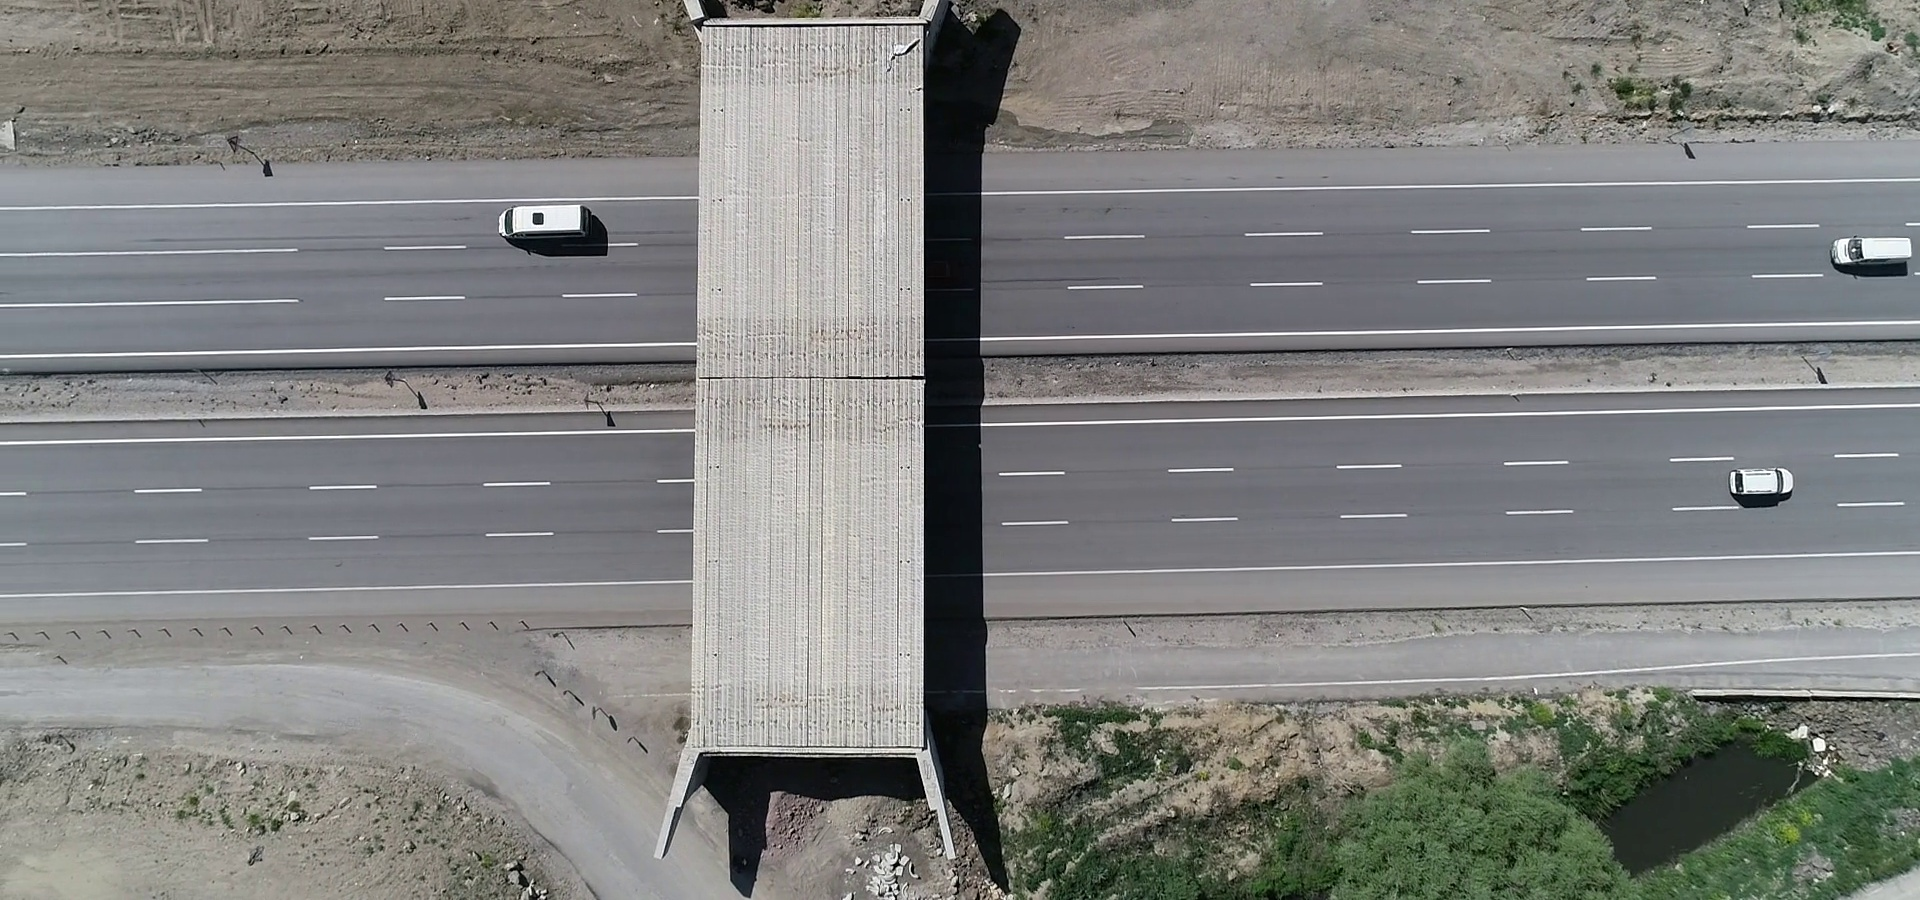arac: (489, 204, 598, 251), (1823, 229, 1916, 269), (1727, 465, 1800, 501)
